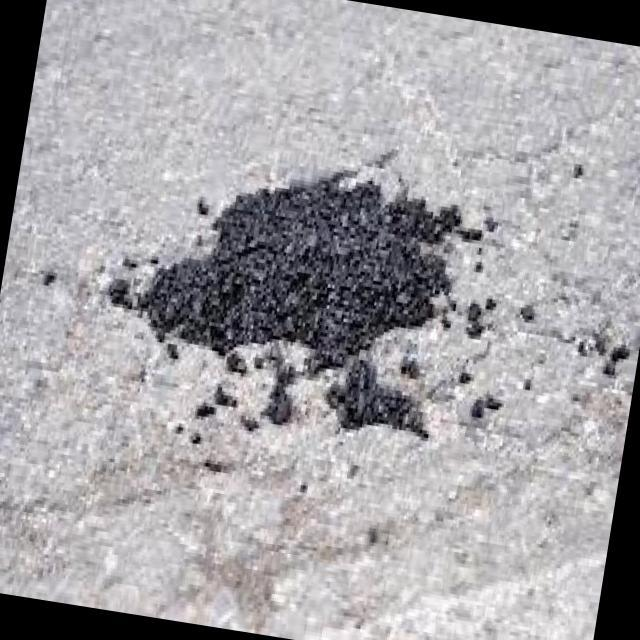Pothole: (105, 173, 479, 424)
